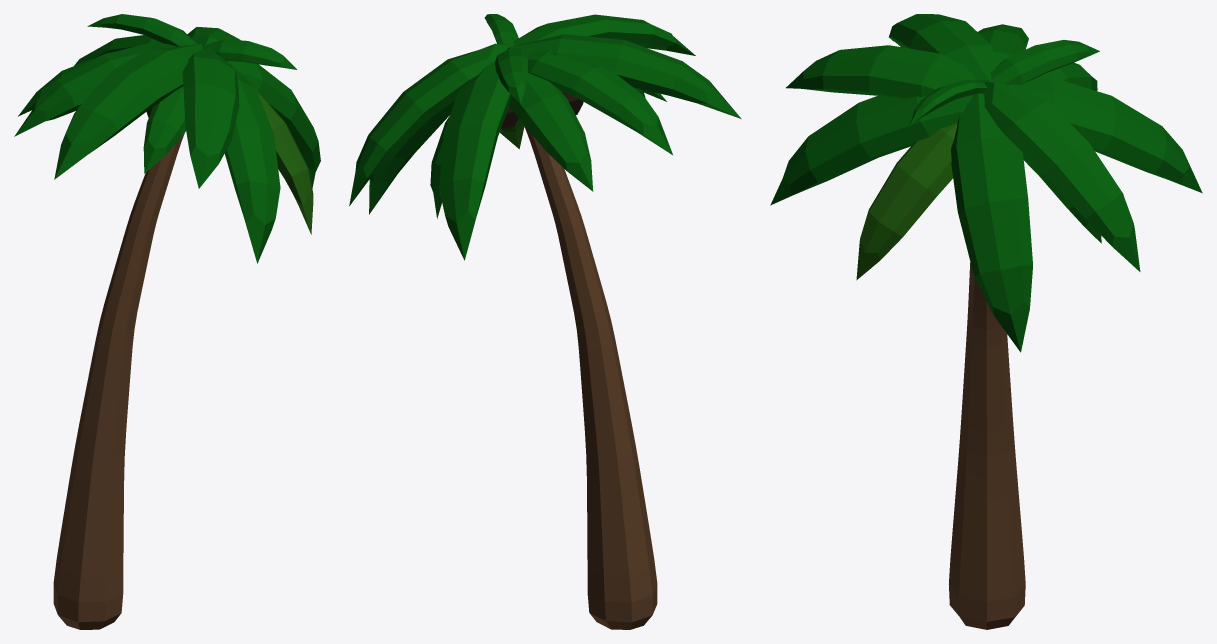
The model's file is lp_palm_4_Cube_040.obj.
3 views of the same model, side by side, from view 1: azimuth 30°, elevation 25°; view 2: azimuth 150°, elevation 25°; view 3: azimuth 270°, elevation 25° (orthographic). The views are drawn at different scales.
Visible parts, largest first — view 1: lp_palm_4_Cube_040; view 2: lp_palm_4_Cube_040; view 3: lp_palm_4_Cube_040.
Boxes of the visible parts, <box> form: lp_palm_4_Cube_040: <box>14,14,320,629</box>; lp_palm_4_Cube_040: <box>349,14,741,629</box>; lp_palm_4_Cube_040: <box>770,14,1202,629</box>.
Bounding box in the file's own units: 7.71 × 13.23 × 8.36.
